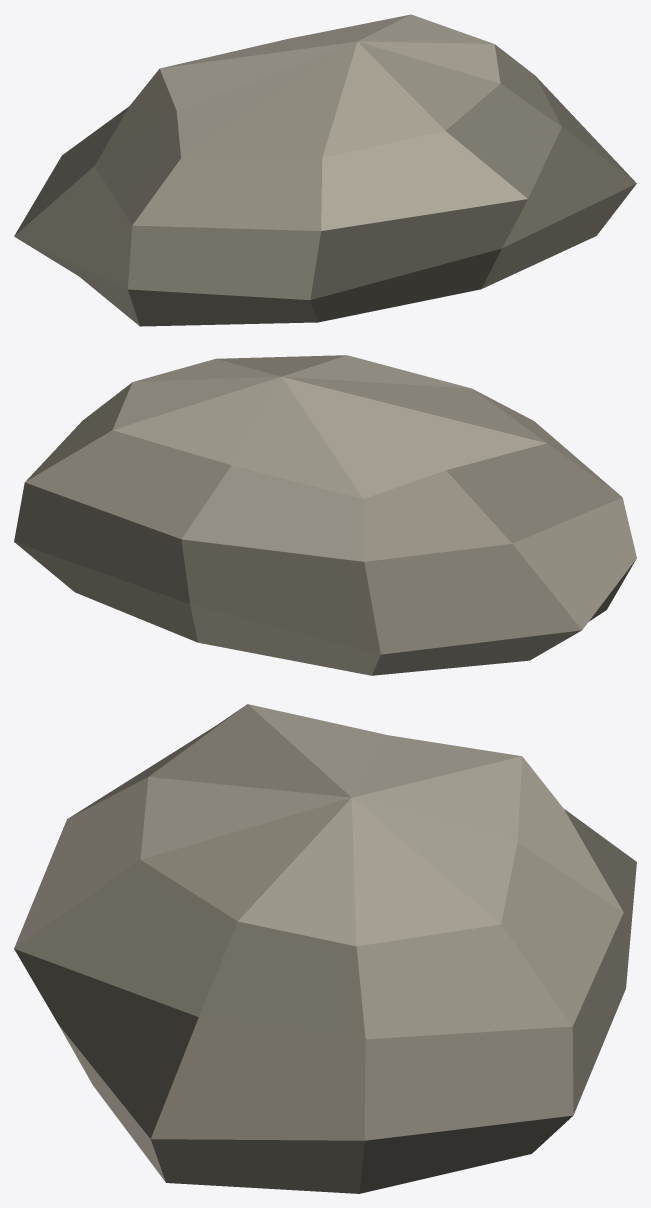
The model's file is river-stone-a.glb.
3 views of the same model, one above another, from view 1: azimuth 30°, elevation 25°; view 2: azimuth 150°, elevation 25°; view 3: azimuth 270°, elevation 25° (orthographic). The views are drawn at different scales.
Visible parts, largest first — view 1: River_Stone_A; view 2: River_Stone_A; view 3: River_Stone_A.
Part boxes in pixels (<box>): River_Stone_A: <box>14,14,636,326</box>; River_Stone_A: <box>14,355,636,675</box>; River_Stone_A: <box>14,704,636,1193</box>.
Bounding box in the file's own units: 0.8314 × 0.3172 × 0.6071.
1 material, 1 textured.
